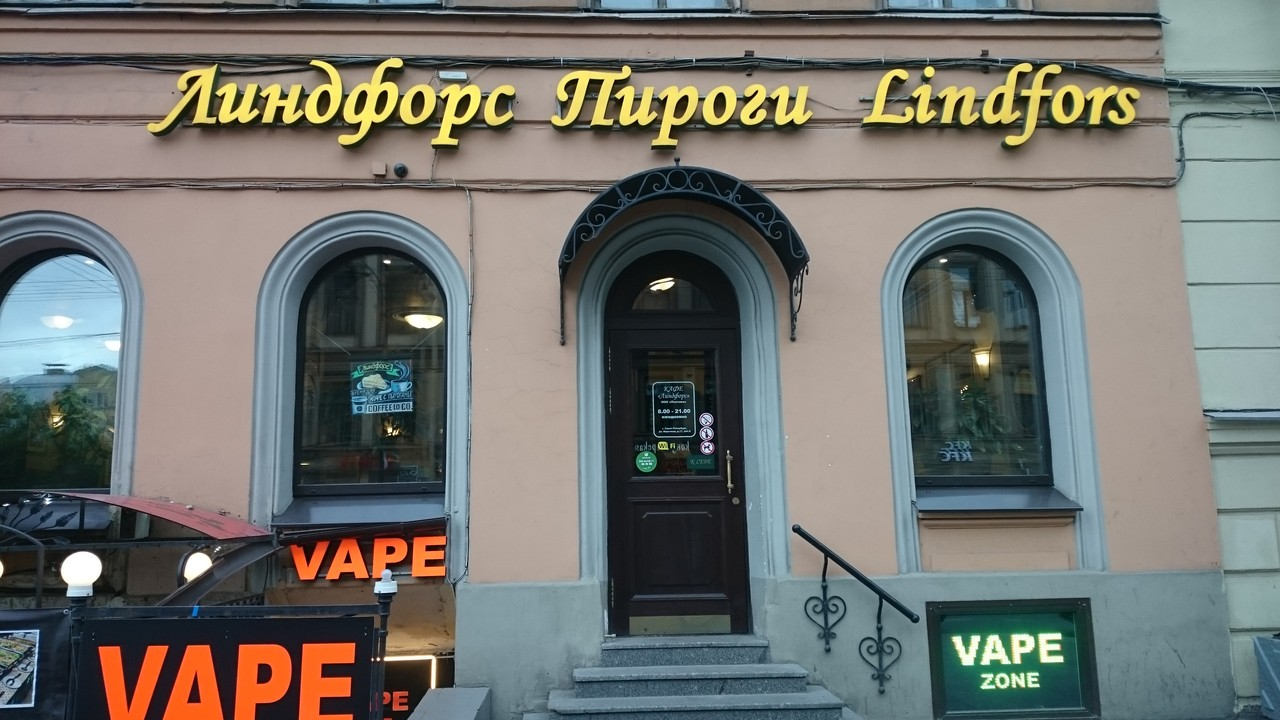door: (601, 320, 745, 629)
signboard: (141, 57, 1142, 150), (93, 642, 359, 720), (275, 531, 447, 585)
window: (296, 243, 451, 497), (902, 243, 1056, 490), (1, 245, 124, 497)
